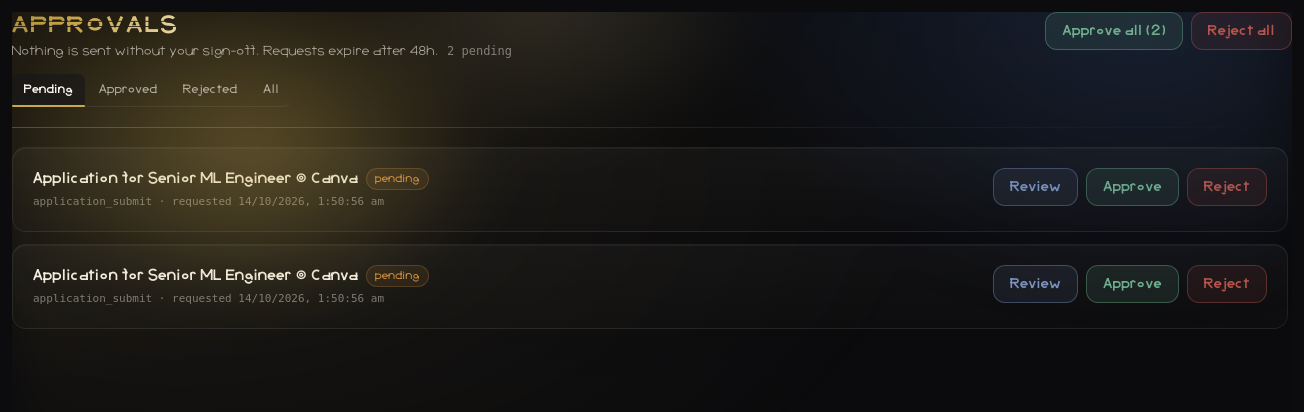
Test: bulk-approve honestly handles the U2c below-quality-floor 409 (ticket/bulkapprove-409) › declining the acknowledgement dialog leaves the below-floor requests pending with honest copy (no auto-acknowledge)
The image size is (1304, 412).
Click the button with test id "bulk-approve-btn": coordinates (1114, 31) [1046, 12, 1183, 50]
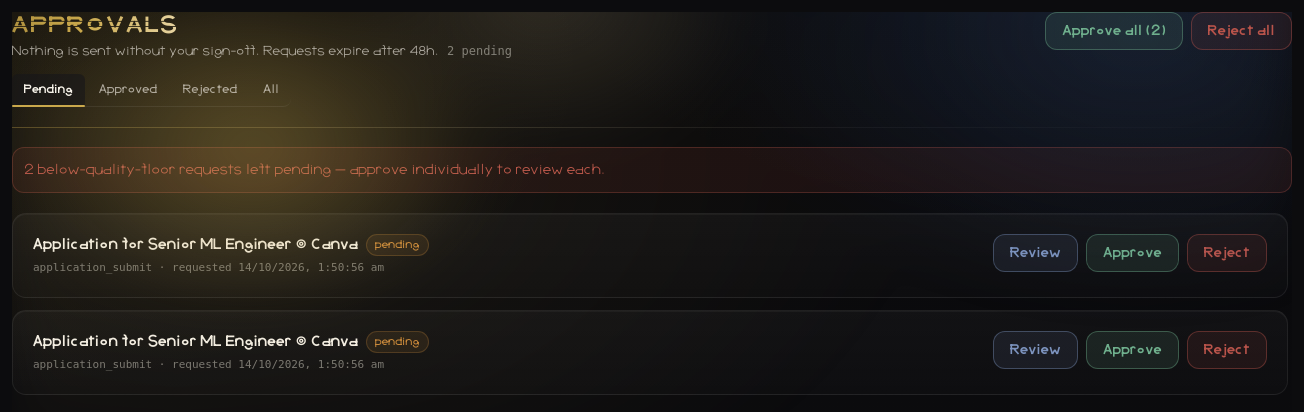
expect the message shows "left pending": met, box [25, 163, 606, 177]
expect the message shows "approve individually": met, box [25, 163, 606, 177]
